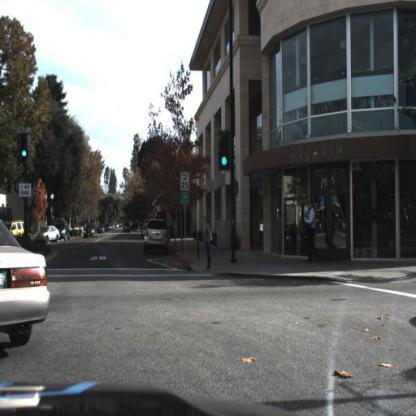car: (2, 219, 50, 353), (144, 217, 172, 255), (2, 218, 33, 244), (38, 224, 61, 246), (83, 220, 98, 244)
pedestrian: (305, 203, 318, 262), (203, 215, 212, 269)
trafficLight: (220, 136, 232, 172), (20, 132, 29, 161)
trafficLight-Green: (220, 136, 230, 170)
